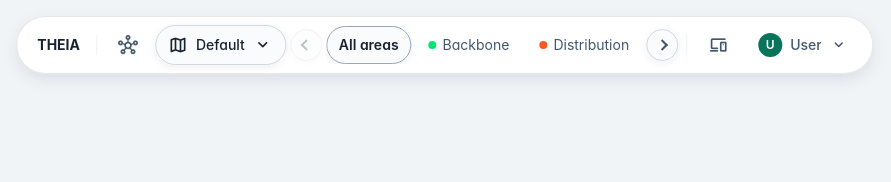
it: NavigationPill › preserves the enterprise navigation model with area filters and fixed action buttons
Expected: the text "THEIA" is shown, [37,36,80,53]
Expected: the button named "Topology Hub" is shown, [105,26,151,64]
What coordinates should you click on to do the following:
click the button with aria-label "User menu for User"
I would click on:
 (803, 45)
Its box is [745,25,861,65].
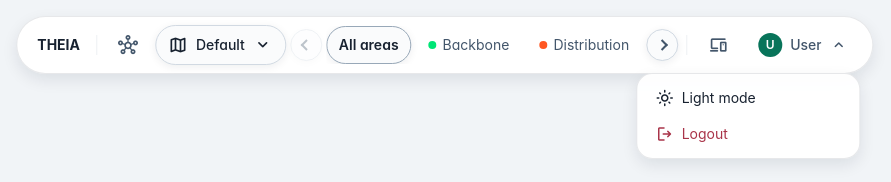
Expected: the menu item "Light mode" is shown, [644,80,854,116]
